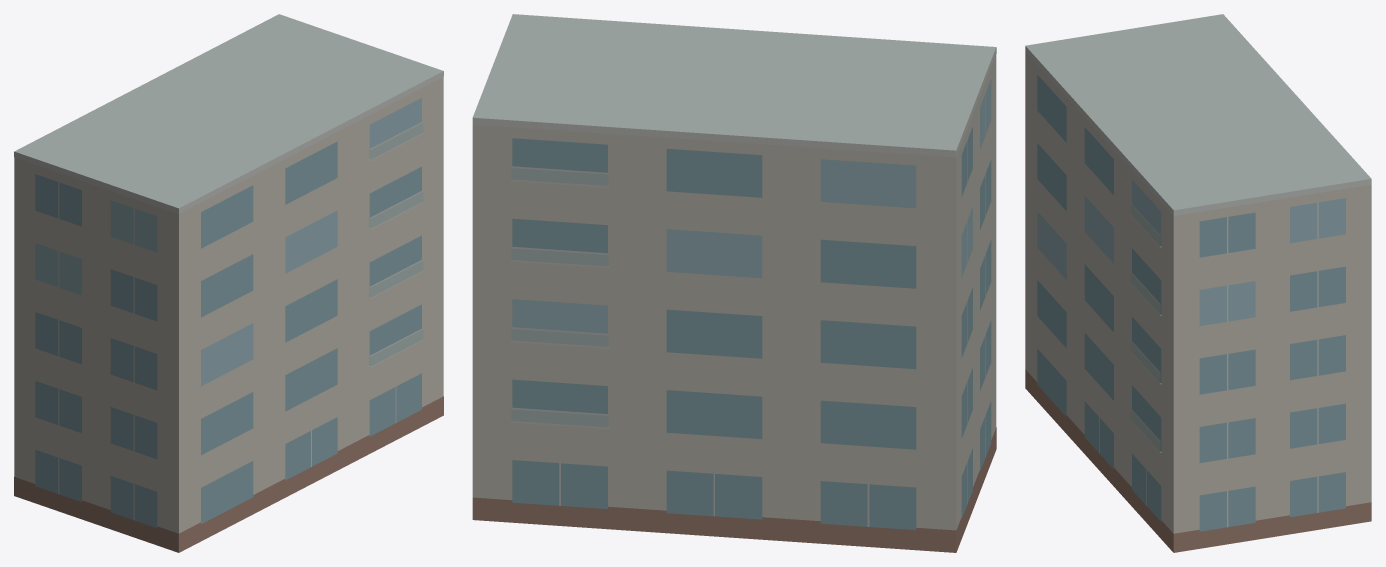
The model's file is survey-upis-32907363.glb.
The picture shows the model from 3 angles, left to right: view 1: azimuth 30°, elevation 25°; view 2: azimuth 150°, elevation 25°; view 3: azimuth 270°, elevation 25°; orthographic projection. The views are drawn at different scales.
Visible parts, largest first — view 1: survey-upis-32907363.tmp; view 2: survey-upis-32907363.tmp; view 3: survey-upis-32907363.tmp.
Part boxes in pixels (left/top/right/bottom): survey-upis-32907363.tmp: left=14, top=14, right=443, bottom=552; survey-upis-32907363.tmp: left=472, top=14, right=996, bottom=552; survey-upis-32907363.tmp: left=1025, top=14, right=1371, bottom=552.
Size of the model in its own units: 17.84 by 14.5 by 13.3.
